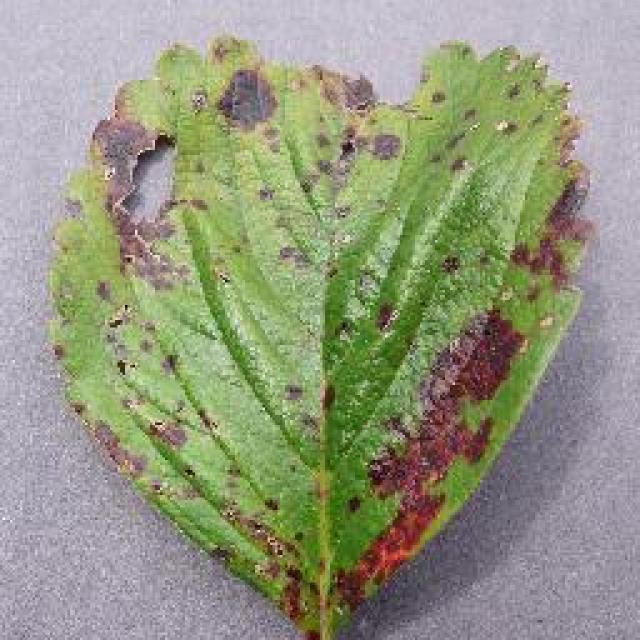Strawberry leaf scorch: (98, 103, 495, 472)
